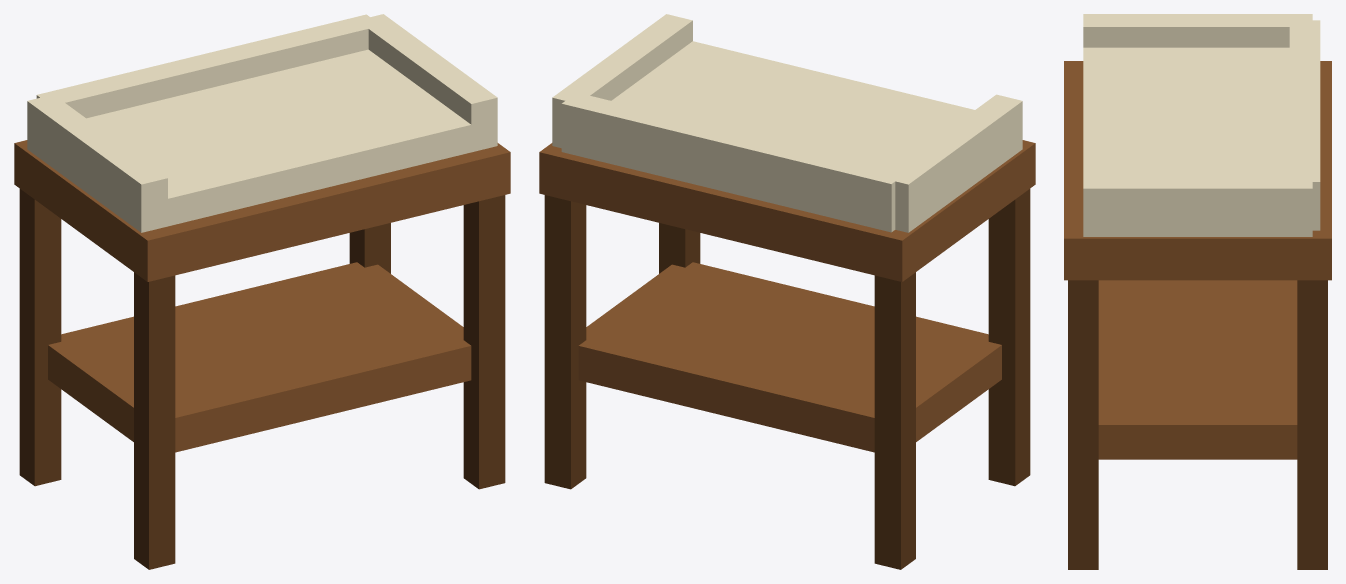
The model's file is ChangingTable.obj.
3 renders of one model, left to right at view 1: azimuth 30°, elevation 25°; view 2: azimuth 150°, elevation 25°; view 3: azimuth 270°, elevation 25°, orthographic.
Visible parts, largest first — view 1: ChangingTable; view 2: ChangingTable; view 3: ChangingTable.
Part boxes in pixels (x1,y1,x2,y2): ChangingTable: (14,14,510,569); ChangingTable: (539,14,1035,569); ChangingTable: (1064,14,1331,569).
Size of the model in its own units: 1.1 by 1.1 by 0.7.
